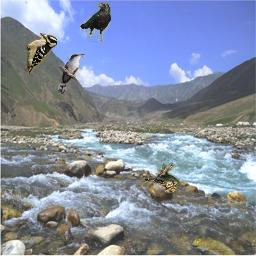Crow: (80, 2, 111, 42)
Cuckoo: (58, 54, 85, 94)
Sparrow: (142, 163, 182, 193)
Woodpecker: (25, 33, 57, 73)
